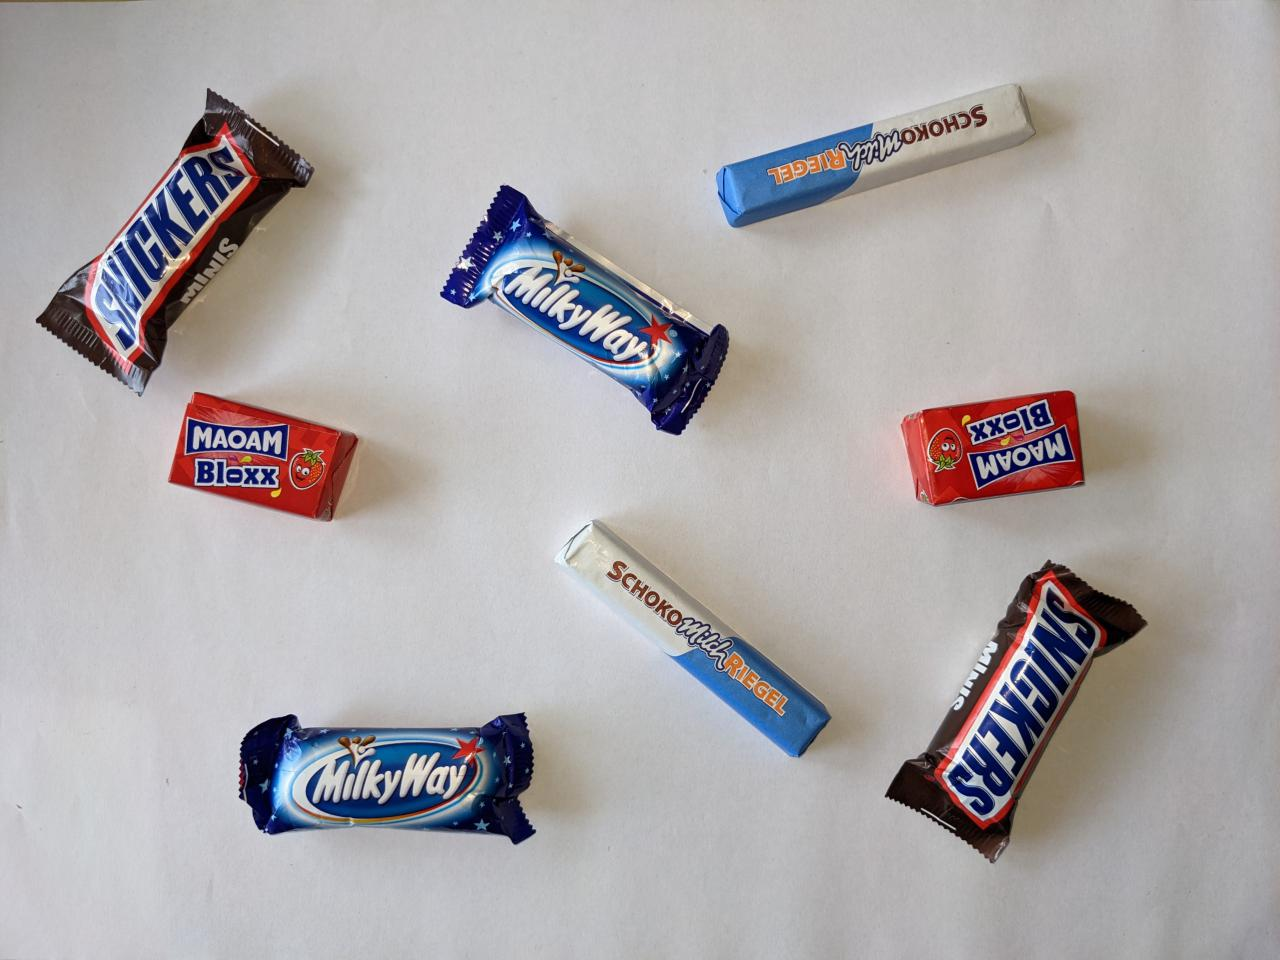MAOAM: (159, 384, 370, 527), (895, 381, 1092, 513)
MilkyWay: (429, 177, 736, 439), (232, 710, 548, 849)
Schokoriegel: (545, 513, 837, 766), (709, 76, 1043, 235)
Snickers: (30, 81, 323, 404), (876, 552, 1156, 870)
